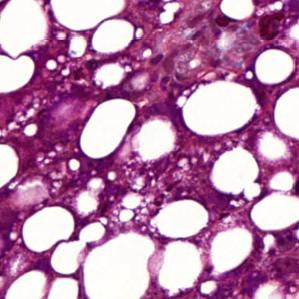steatosis: (180, 83, 257, 136), (79, 97, 138, 158), (20, 204, 75, 253), (154, 200, 210, 238)
